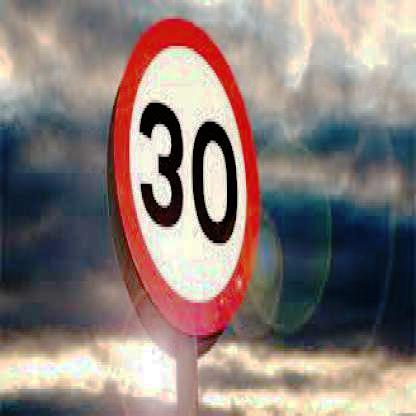Speed Limit -30-: (112, 13, 264, 336)
